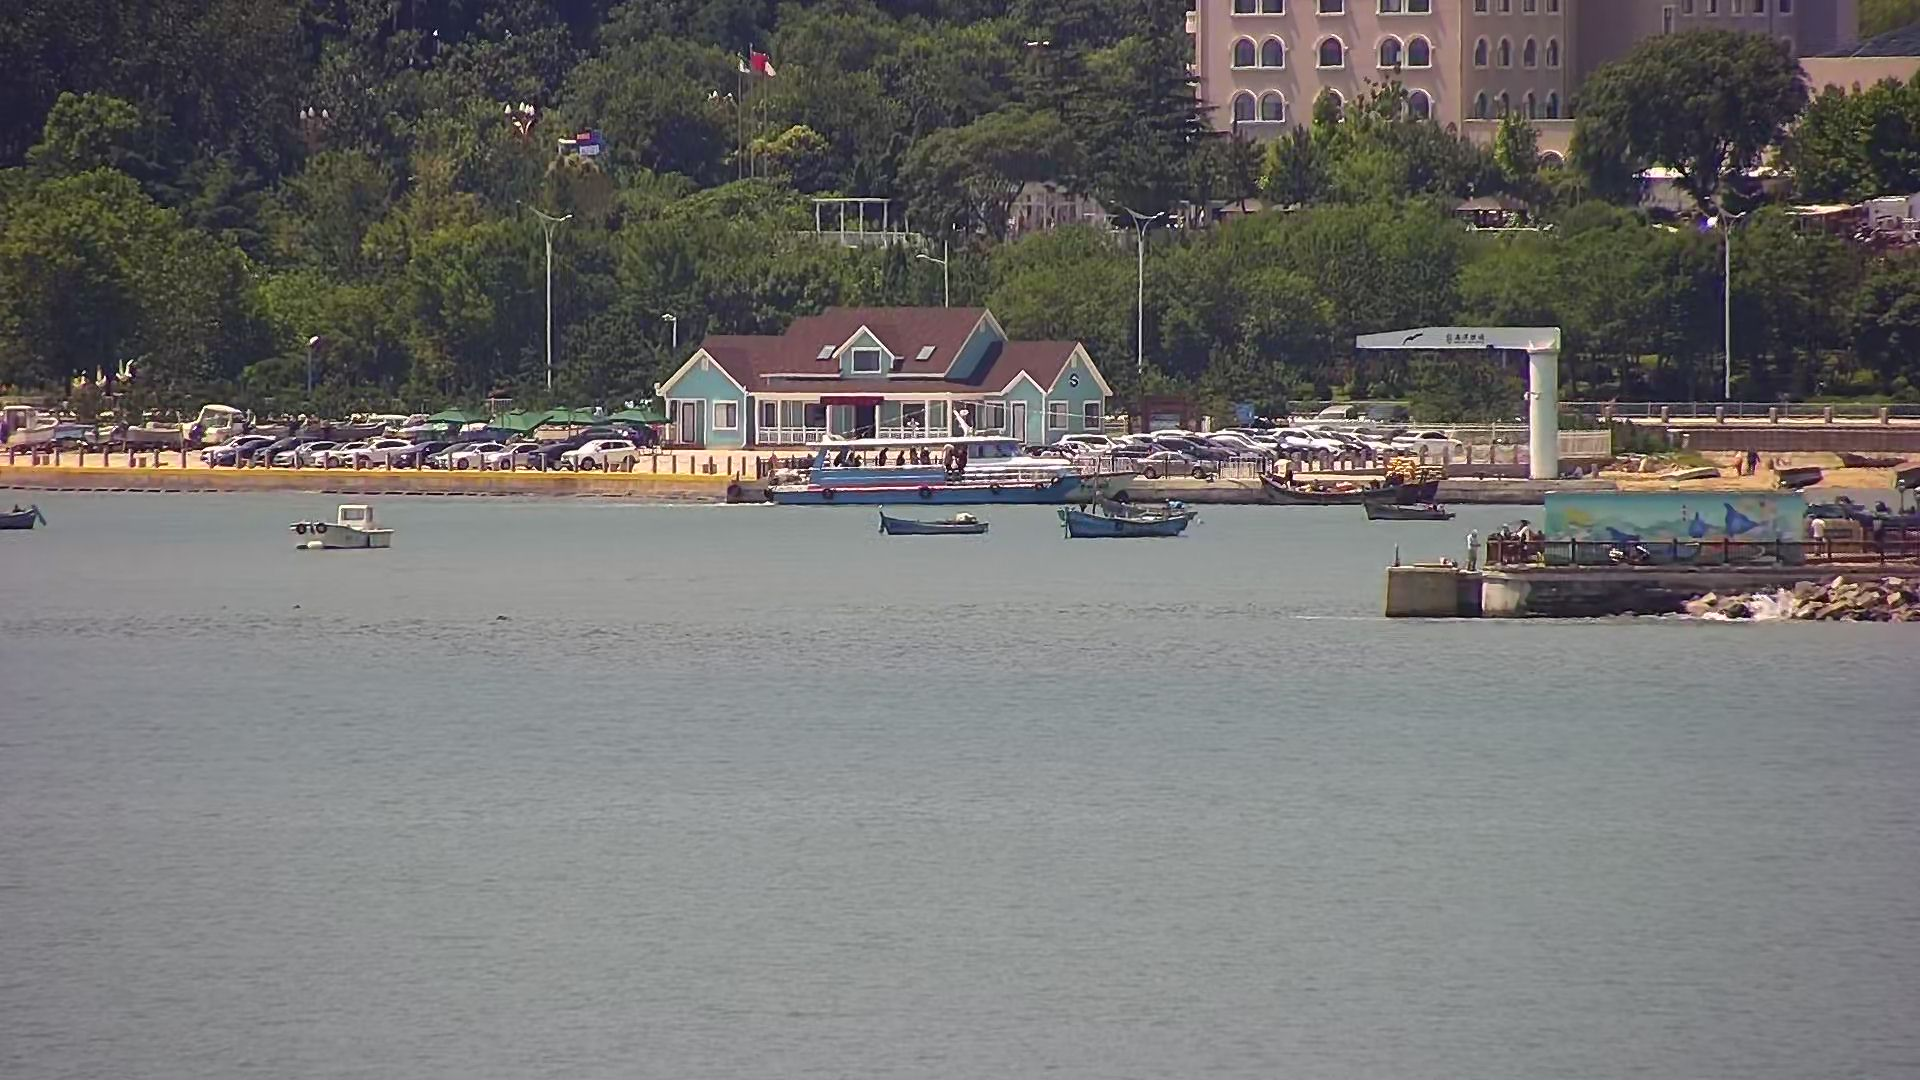boat: (281, 500, 400, 556), (1055, 500, 1200, 545), (872, 506, 993, 542), (1354, 498, 1458, 526), (1, 493, 44, 545)
harbor: (1338, 313, 1917, 622)
